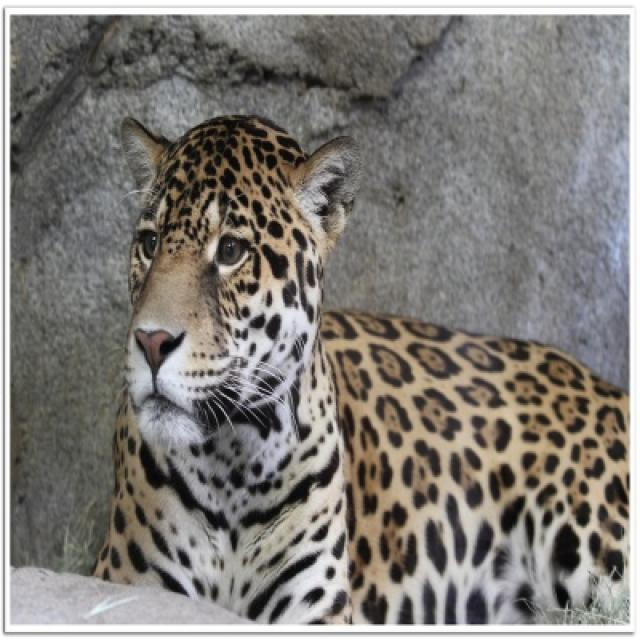Jaguar: (93, 115, 627, 626)
